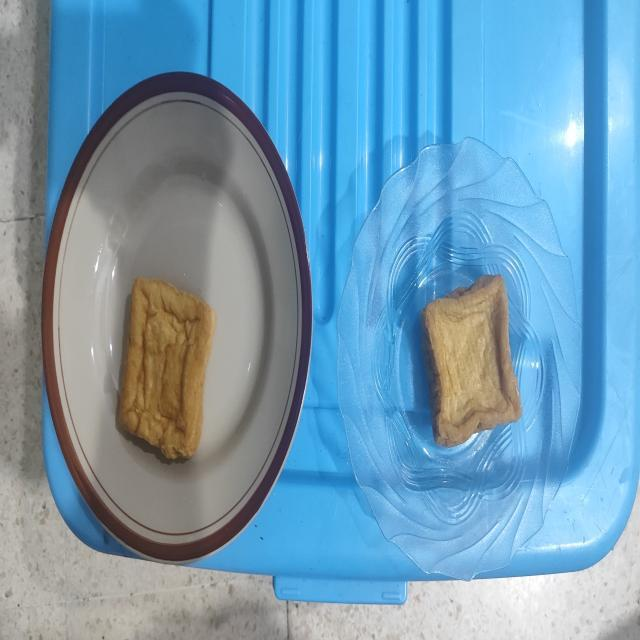tahu_goreng: (119, 278, 216, 459), (422, 275, 522, 447)
